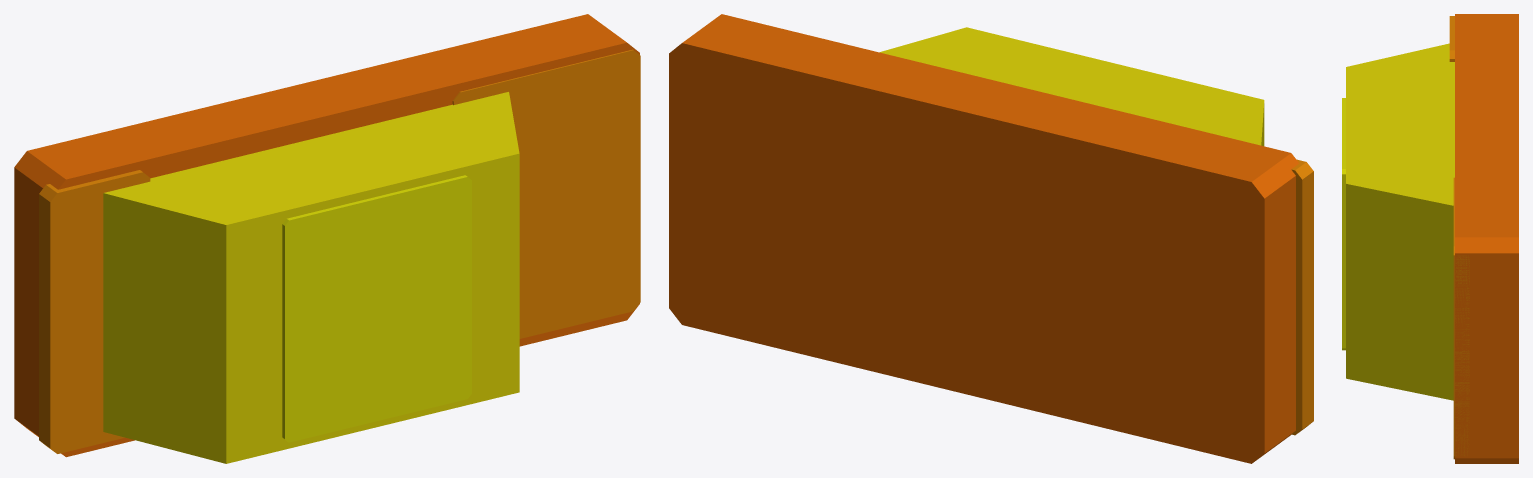
The model's file is SM_TransitSystemV1_CarCrossover_Paint.obj.
3 renders of one model, left to right at view 1: azimuth 30°, elevation 25°; view 2: azimuth 150°, elevation 25°; view 3: azimuth 270°, elevation 25°, orthographic. The views are drawn at different scales.
Parts seen in each view (by area): view 1: Cabin, RoofPanel, LowerBody, Hood, Boot; view 2: LowerBody, Cabin, Boot; view 3: Cabin, LowerBody, Hood, RoofPanel, Boot.
Boxes of the visible parts, x1,y1,x2,y2 form: Cabin: [103, 92, 519, 463]; RoofPanel: [282, 175, 471, 442]; LowerBody: [14, 14, 639, 457]; Hood: [452, 49, 640, 338]; Boot: [39, 170, 150, 453]; LowerBody: [669, 14, 1299, 463]; Cabin: [880, 27, 1264, 146]; Boot: [1291, 159, 1313, 435]; Cabin: [1346, 43, 1454, 400]; LowerBody: [1455, 14, 1518, 463]; Hood: [1453, 177, 1469, 459]; RoofPanel: [1342, 98, 1345, 350]; Boot: [1449, 16, 1454, 61].
Bounding box in the file's own units: 420 × 188 × 133.
